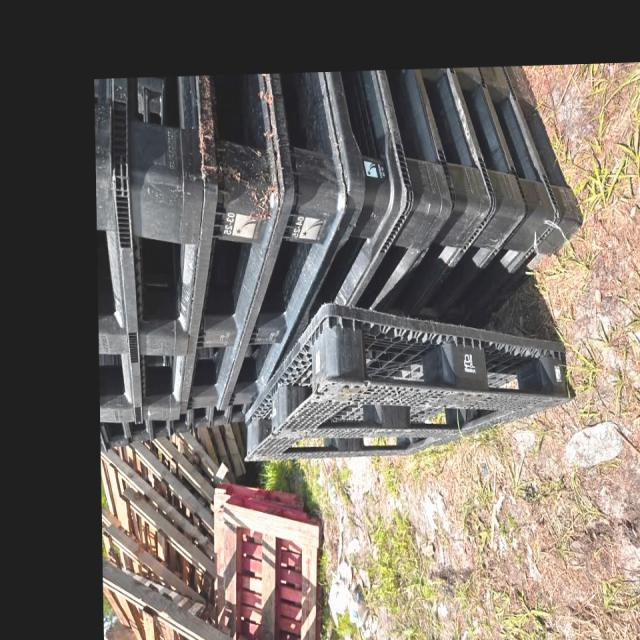non-igps: (241, 296, 577, 511), (248, 59, 414, 414), (213, 62, 353, 419), (180, 66, 292, 422), (403, 54, 533, 338), (443, 47, 567, 339), (442, 56, 566, 341), (368, 61, 499, 330), (124, 65, 218, 429), (342, 61, 459, 318), (91, 66, 152, 437), (208, 479, 324, 640)
